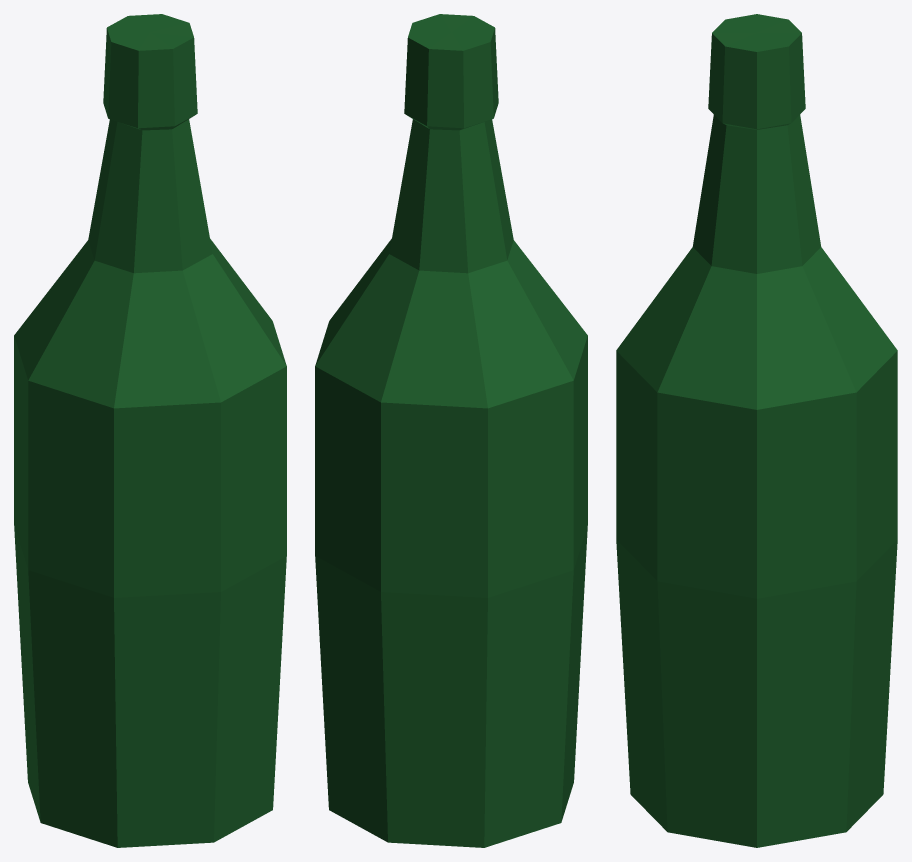
File: wine bottle.fbx
The picture shows the model from 3 angles, left to right: view 1: azimuth 30°, elevation 25°; view 2: azimuth 150°, elevation 25°; view 3: azimuth 270°, elevation 25°; orthographic projection.
Parts seen in each view (by area): view 1: pCylinder8; view 2: pCylinder8; view 3: pCylinder8.
Part boxes in pixels (box(x1,y1,x2,y2)): pCylinder8: box(14, 14, 286, 847); pCylinder8: box(315, 14, 587, 847); pCylinder8: box(616, 14, 897, 847).
Size of the model in its own units: 0.162 by 0.4836 by 0.162.
